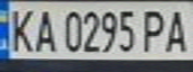0: (57, 7, 84, 54)
2: (78, 7, 103, 54)
5: (115, 7, 142, 53)
9: (96, 7, 121, 54)
A: (160, 6, 193, 54), (30, 6, 57, 54)
K: (3, 6, 39, 54)
P: (139, 6, 172, 54)
